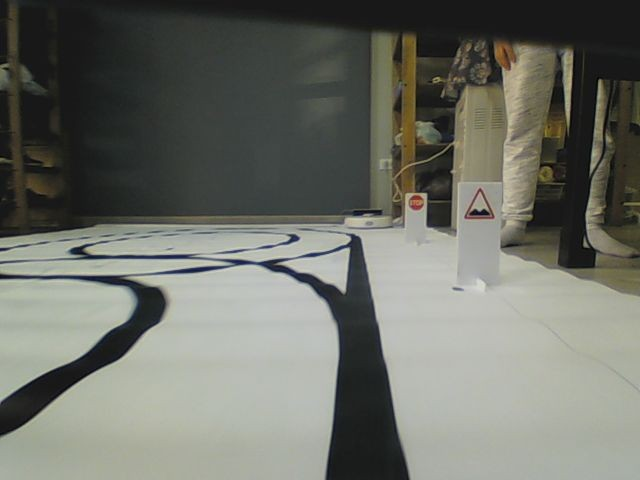Nerov: (462, 186, 495, 220)
